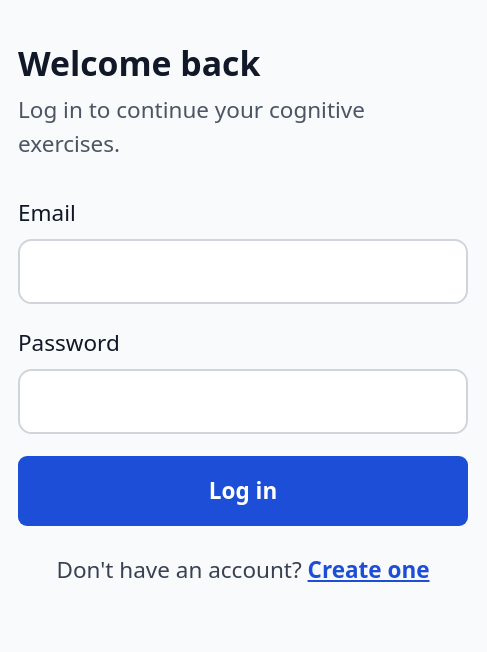
Test case: LoginPage › shows an error message when login fails
In the field labelled "Email": (243, 271) left=18, top=239, right=468, bottom=304, type "person@example.com"
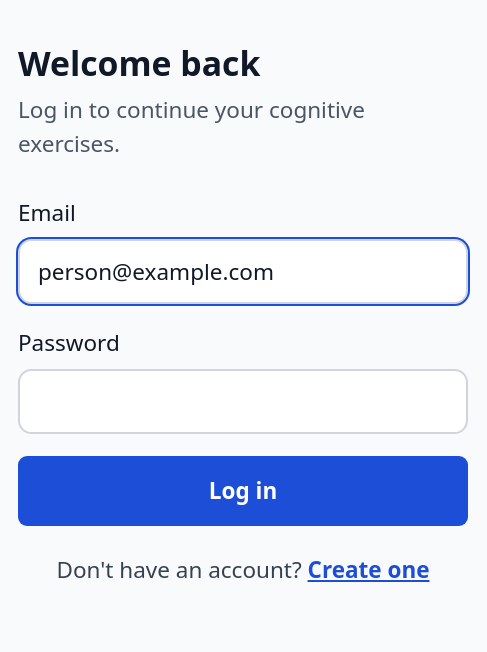
In the password field labelled "Password": (243, 401) left=18, top=369, right=468, bottom=434, type "wrongpass"
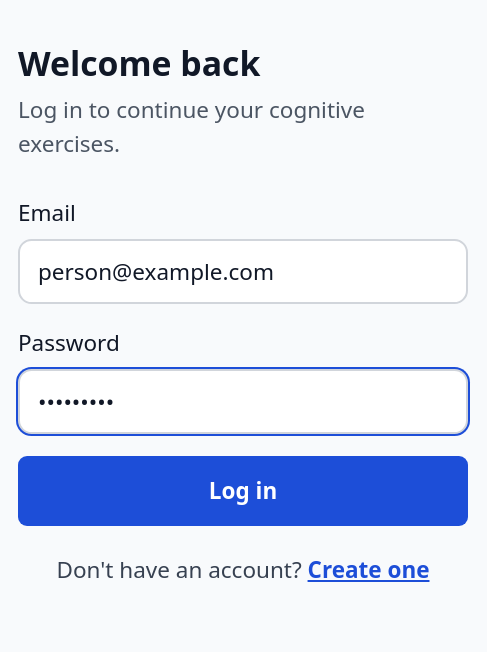
Click the button "Log in": (243, 491) left=18, top=456, right=468, bottom=526
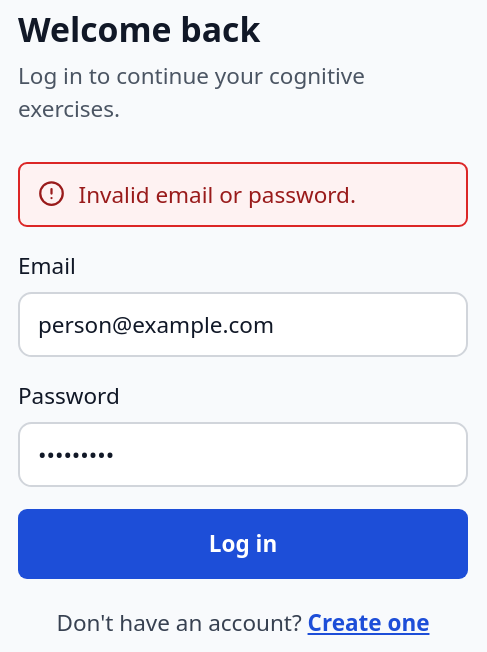
Now the message shows "Invalid email or password", box left=78, top=178, right=356, bottom=210
